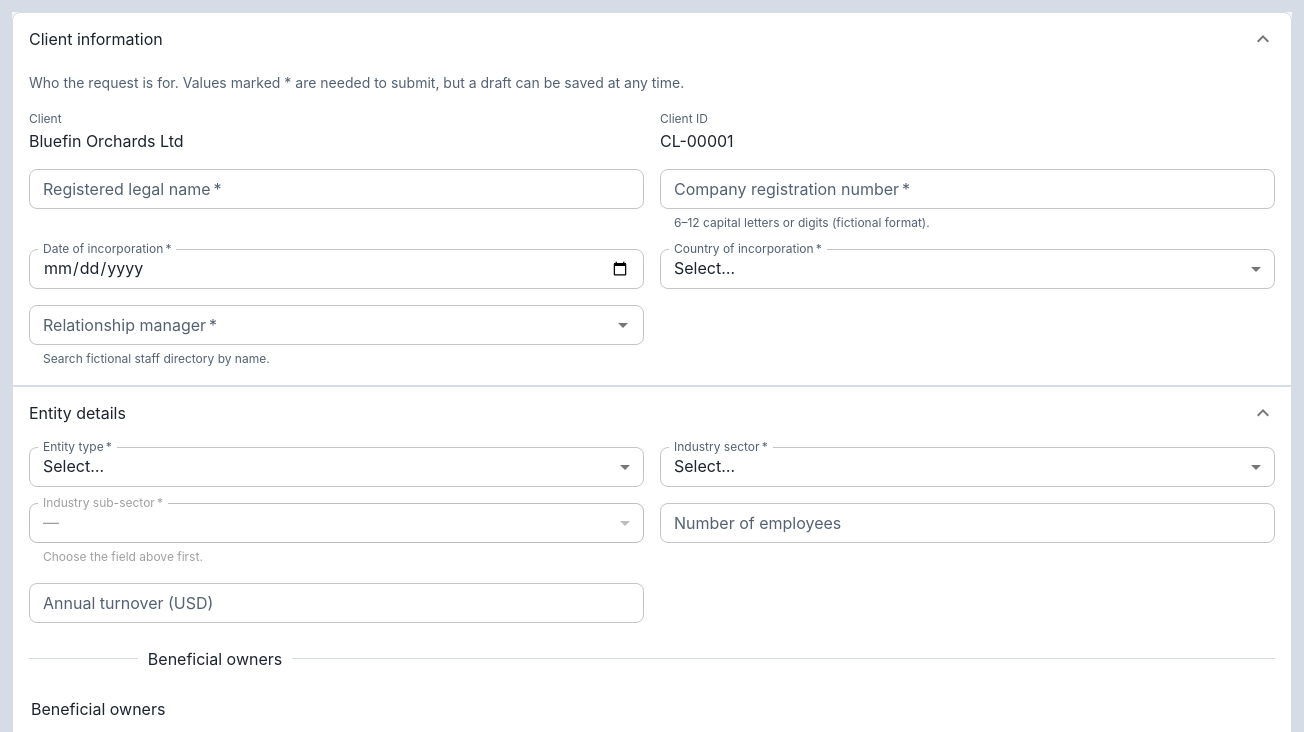
Test: DynamicForm › loads dependent dropdown options from the API and clears the child when the parent changes
Select "Canada" in the dropdown labelled "Country of incorporation *": (968, 269) x1=660 y1=249 x2=1275 y2=289
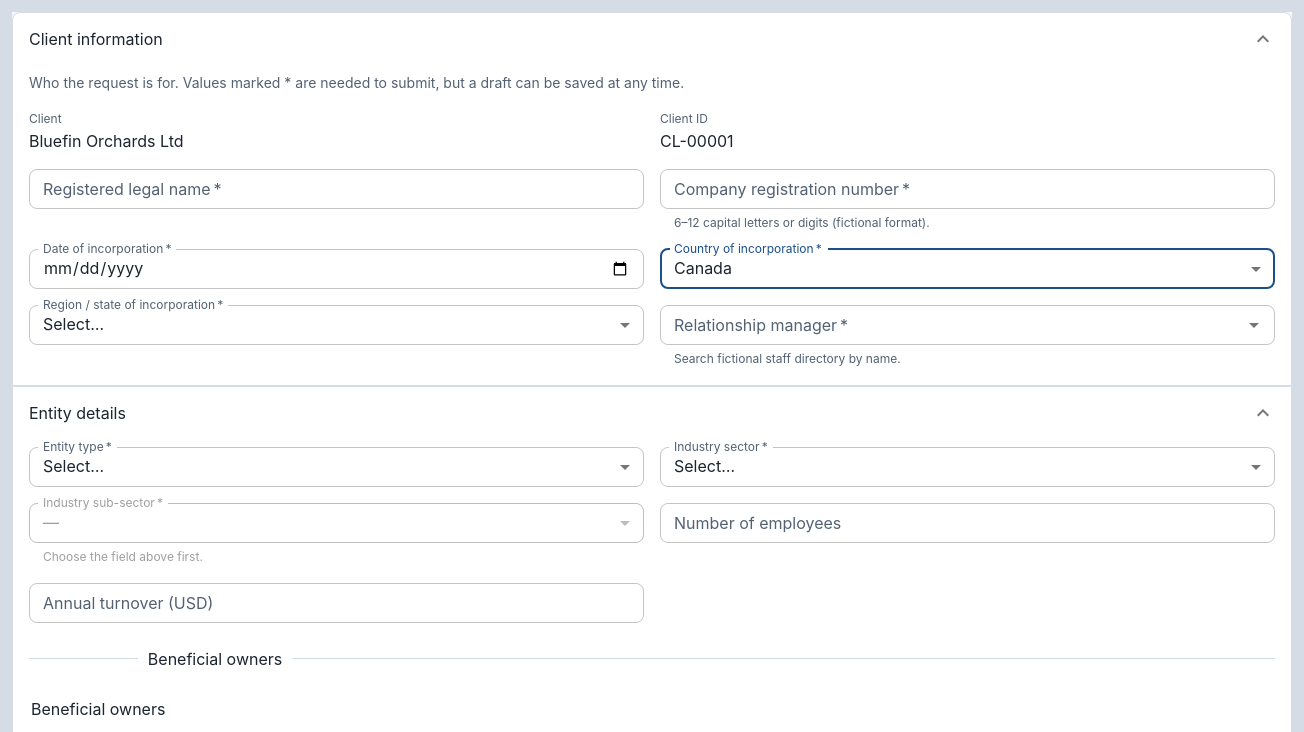
Select "Ontario" in the dropdown labelled "Region / state of incorporation *": (336, 325) x1=29 y1=305 x2=644 y2=345
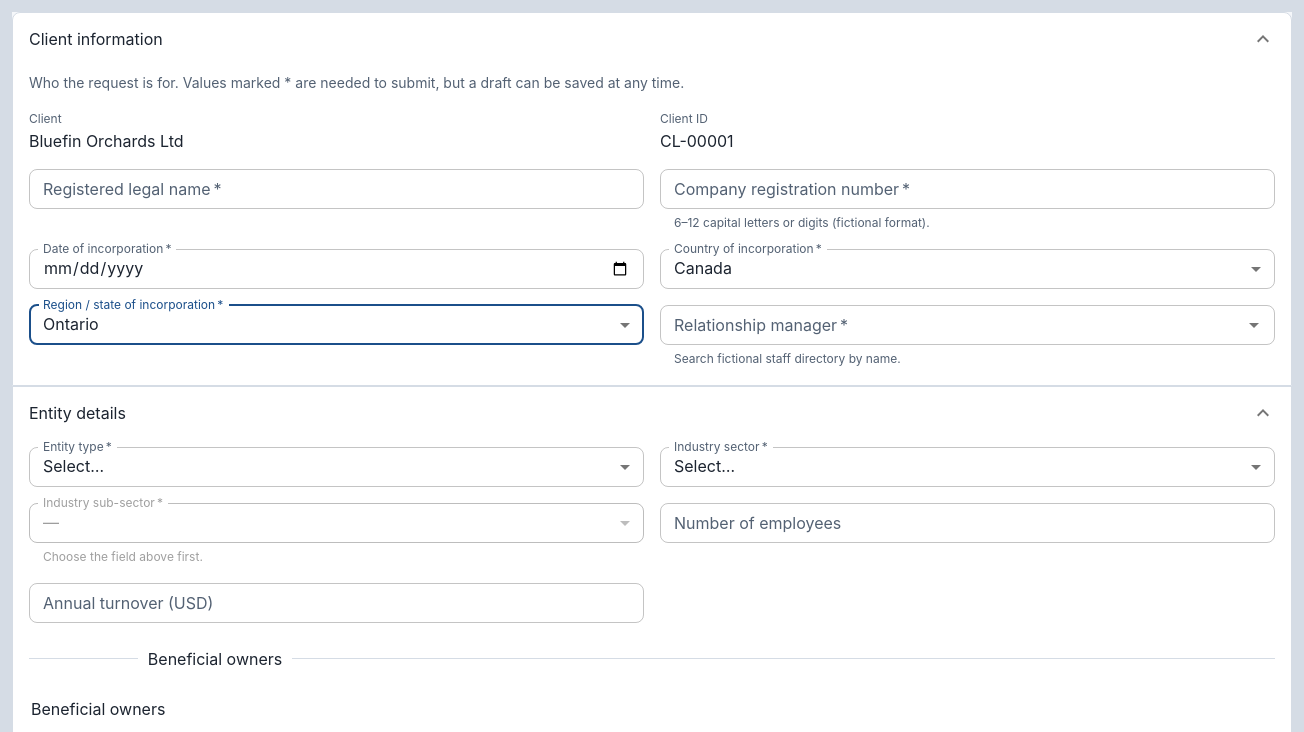
Select "United Kingdom" in the dropdown labelled "Country of incorporation *": (968, 269) x1=660 y1=249 x2=1275 y2=289
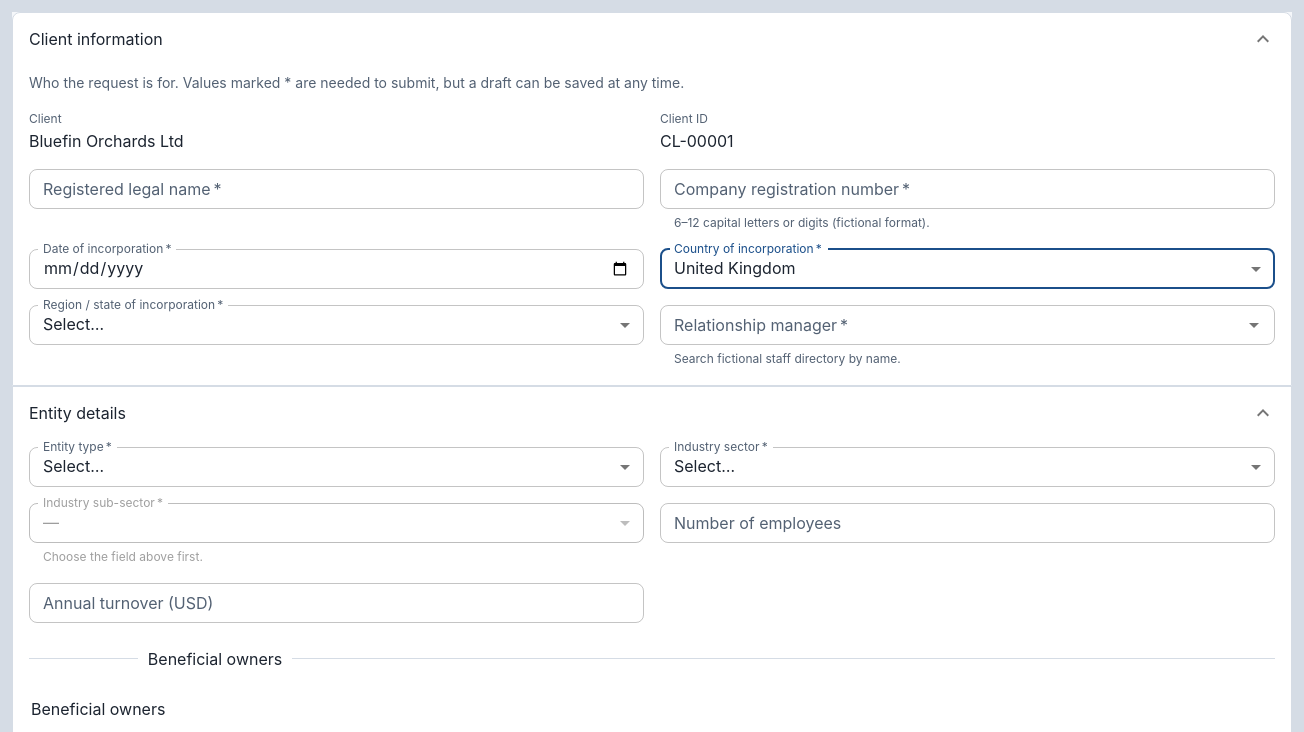
Select "Singapore" in the dropdown labelled "Country of incorporation *": (968, 269) x1=660 y1=249 x2=1275 y2=289
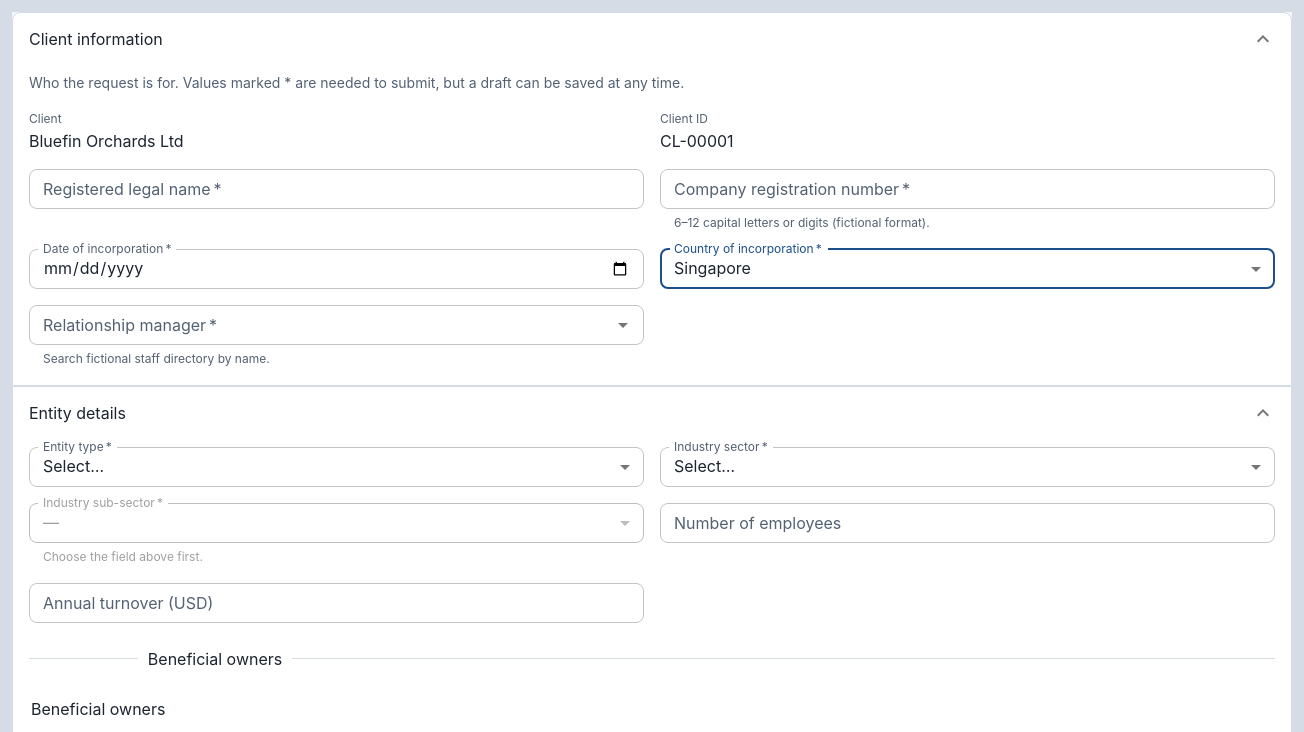
expect the label labelled "Region / state of incorporation" is gone: met
